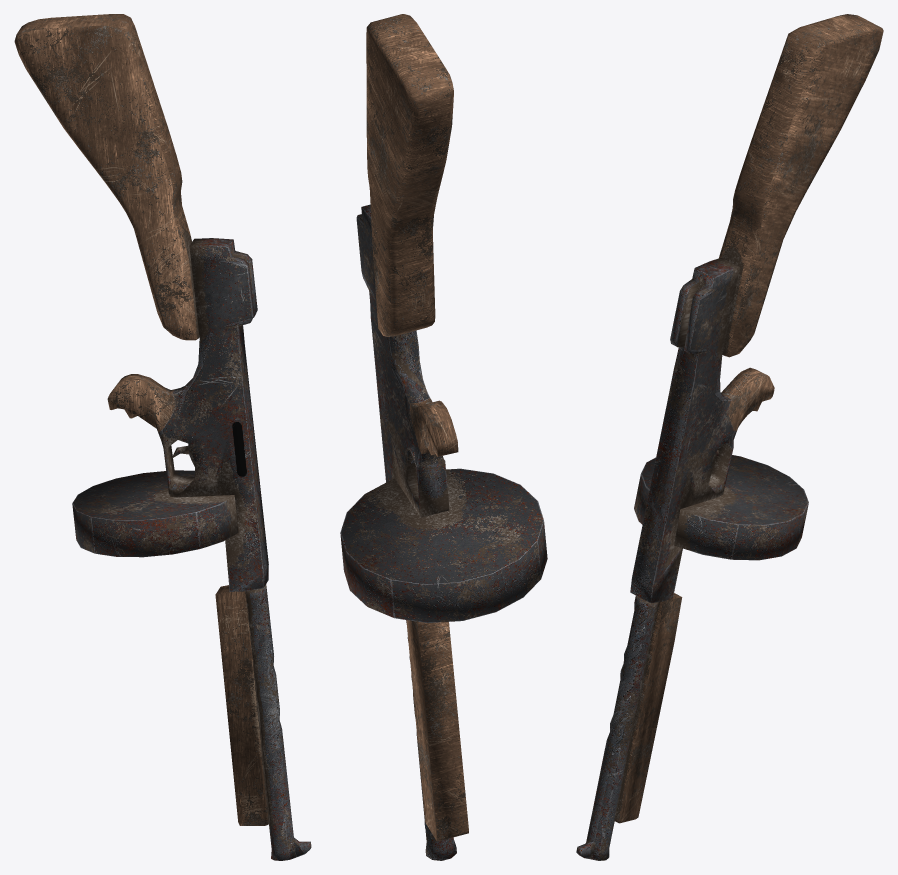
Rendered from Anim_idle_ametralladora_objetos.0038.obj.
3 views of the same model, side by side, from view 1: azimuth 30°, elevation 25°; view 2: azimuth 150°, elevation 25°; view 3: azimuth 270°, elevation 25° (orthographic). The views are drawn at different scales.
Visible parts, largest first — view 1: Ametralladora1; view 2: Ametralladora1; view 3: Ametralladora1.
Part boxes in pixels (x1,y1,x2,y2): Ametralladora1: (14,14,311,860); Ametralladora1: (340,14,547,860); Ametralladora1: (576,14,883,860).
Size of the model in its own units: 1.25 by 5.87 by 2.06.
